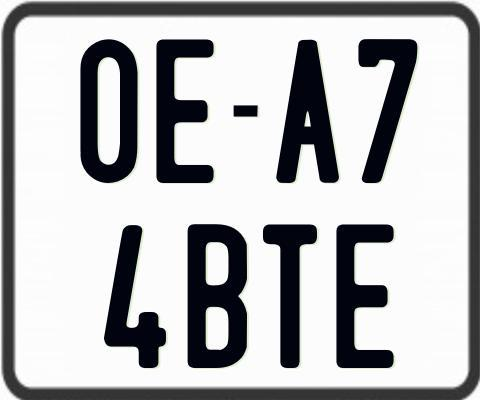0: (80, 37, 142, 186)
4: (102, 223, 170, 367)
7: (358, 37, 421, 182)
A: (276, 39, 340, 186)
B: (185, 223, 247, 370)
E: (155, 38, 218, 185), (334, 222, 394, 371)
T: (263, 224, 319, 372)
